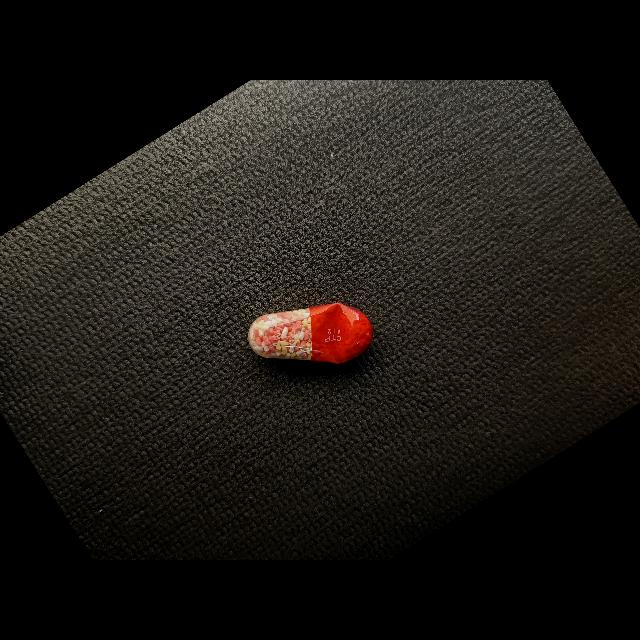Defective Capsule: (248, 303, 373, 364)
